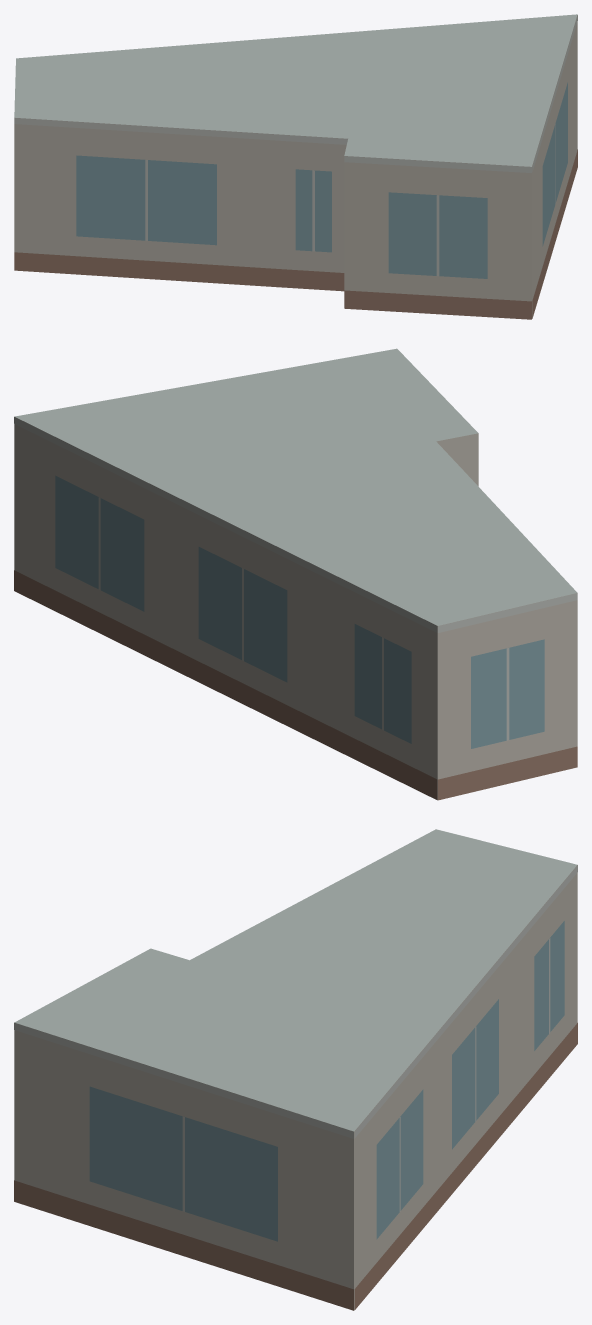
The model's file is survey-upis-32456471.glb.
3 renders of one model, top to bottom at view 1: azimuth 30°, elevation 25°; view 2: azimuth 150°, elevation 25°; view 3: azimuth 270°, elevation 25°, orthographic. The views are drawn at different scales.
Visible parts, largest first — view 1: survey-upis-32456471.tmp; view 2: survey-upis-32456471.tmp; view 3: survey-upis-32456471.tmp.
Boxes of the visible parts, x1,y1,x2,y2 form: survey-upis-32456471.tmp: [14, 14, 577, 319]; survey-upis-32456471.tmp: [14, 348, 577, 800]; survey-upis-32456471.tmp: [14, 829, 577, 1310].
Size of the model in its own units: 11.06 by 3.05 by 8.71.
